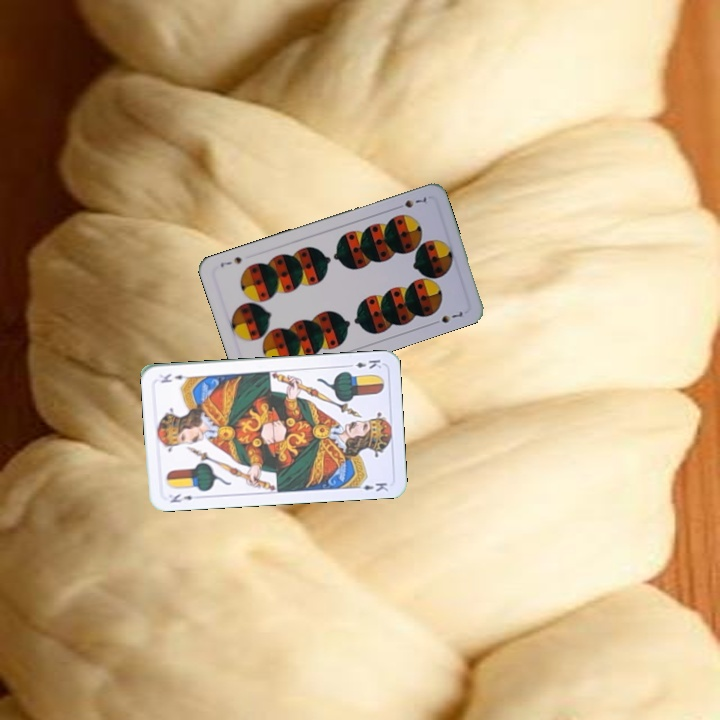EK: (343, 355, 384, 371), (166, 490, 195, 505)
S7: (391, 193, 431, 212)
